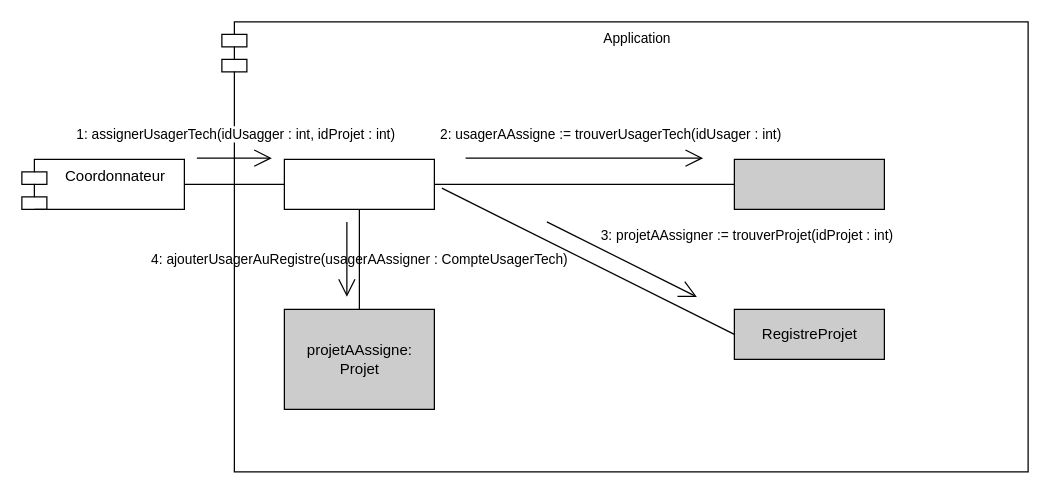
This 1050x494 diagram has some shape labels left out. The shapes that lost their labels are listed below. From the top down, each one's box as (x1, y1, x2, y2) in pixels, then its label:
(283, 158, 434, 209): Facade
(733, 158, 884, 209): RegistreUsagerTech
